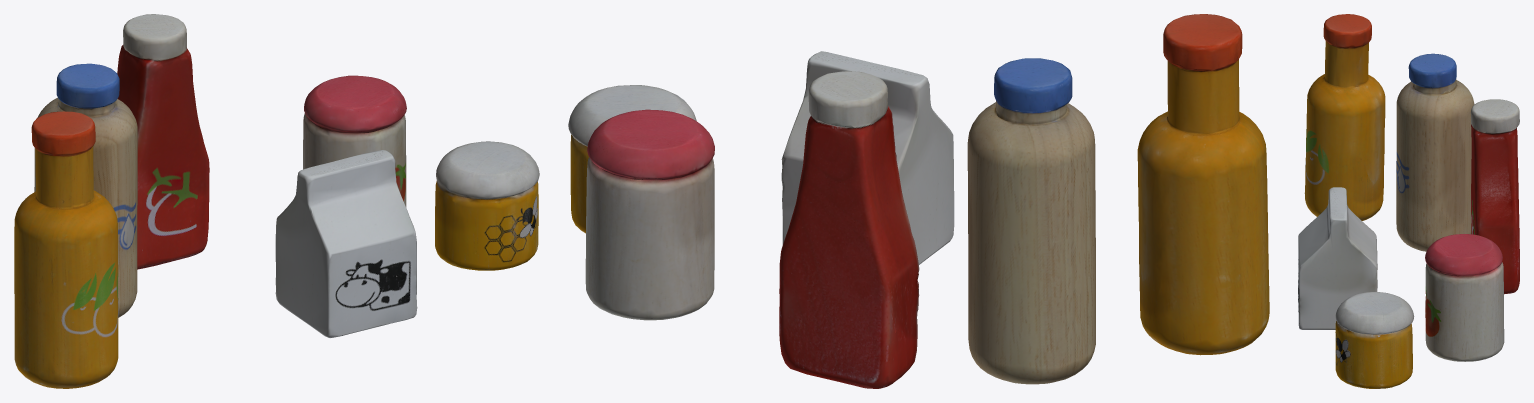
3 views of the same model, side by side, from view 1: azimuth 30°, elevation 25°; view 2: azimuth 150°, elevation 25°; view 3: azimuth 270°, elevation 25° (orthographic). The views are drawn at different scales.
Visible parts, largest first — view 1: model; view 2: model; view 3: model.
Part boxes in pixels (x1,y1,x2,y2): model: (14,14,539,388); model: (568,14,1269,388); model: (1298,14,1519,388).
Bounding box in the file's own units: 1 × 0.4499 × 0.4774.
Materials: 1 (1 with a texture image).
